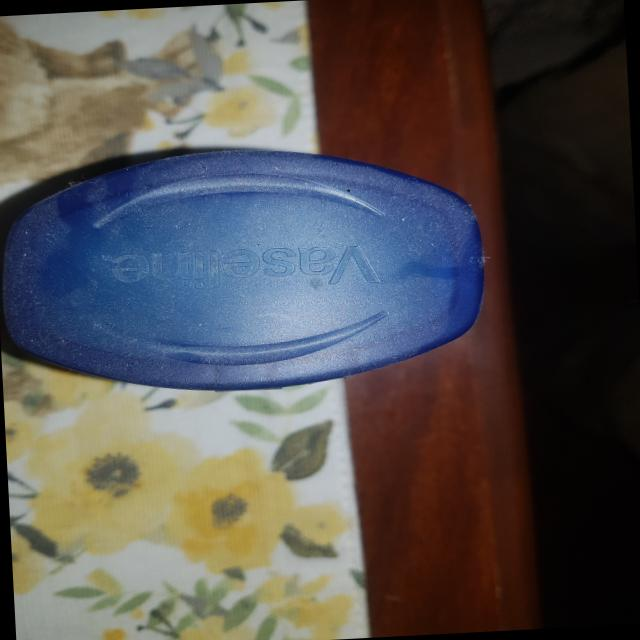general: (0, 133, 492, 403)
